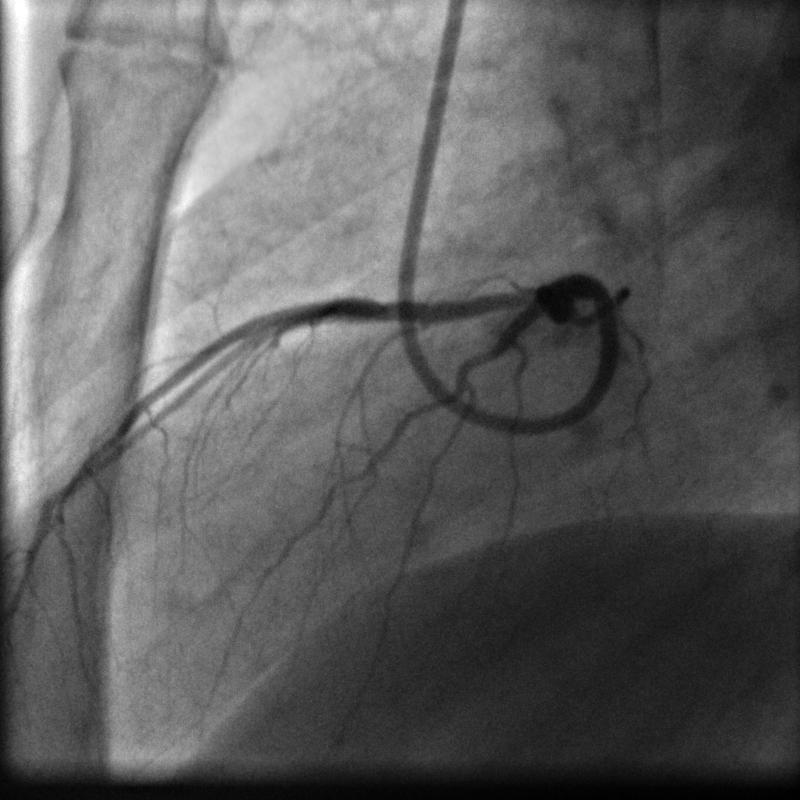Stenosis: (363, 294, 390, 323)
